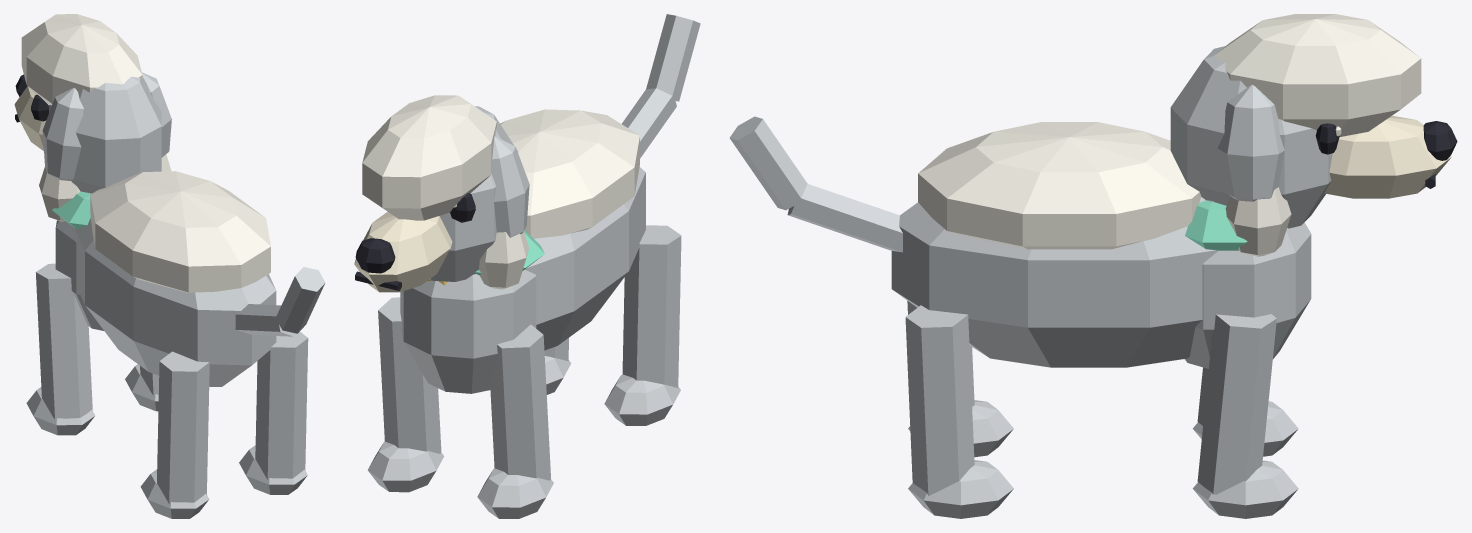
Rendered from bedlington_terrier.glb.
3 views of the same model, side by side, from view 1: azimuth 30°, elevation 25°; view 2: azimuth 150°, elevation 25°; view 3: azimuth 270°, elevation 25° (orthographic). The views are drawn at different scales.
Visible parts, largest first — view 1: BodyMesh, HeadMesh; view 2: BodyMesh, HeadMesh; view 3: BodyMesh, HeadMesh.
Boxes of the visible parts, left/top/right/bottom form: BodyMesh: left=26, top=171, right=325, bottom=518; HeadMesh: left=14, top=14, right=171, bottom=221; BodyMesh: left=367, top=14, right=700, bottom=518; HeadMesh: left=354, top=95, right=529, bottom=292; BodyMesh: left=729, top=116, right=1311, bottom=518; HeadMesh: left=1170, top=14, right=1457, bottom=256.
Size of the model in its own units: 0.458 by 1.06 by 1.51.
